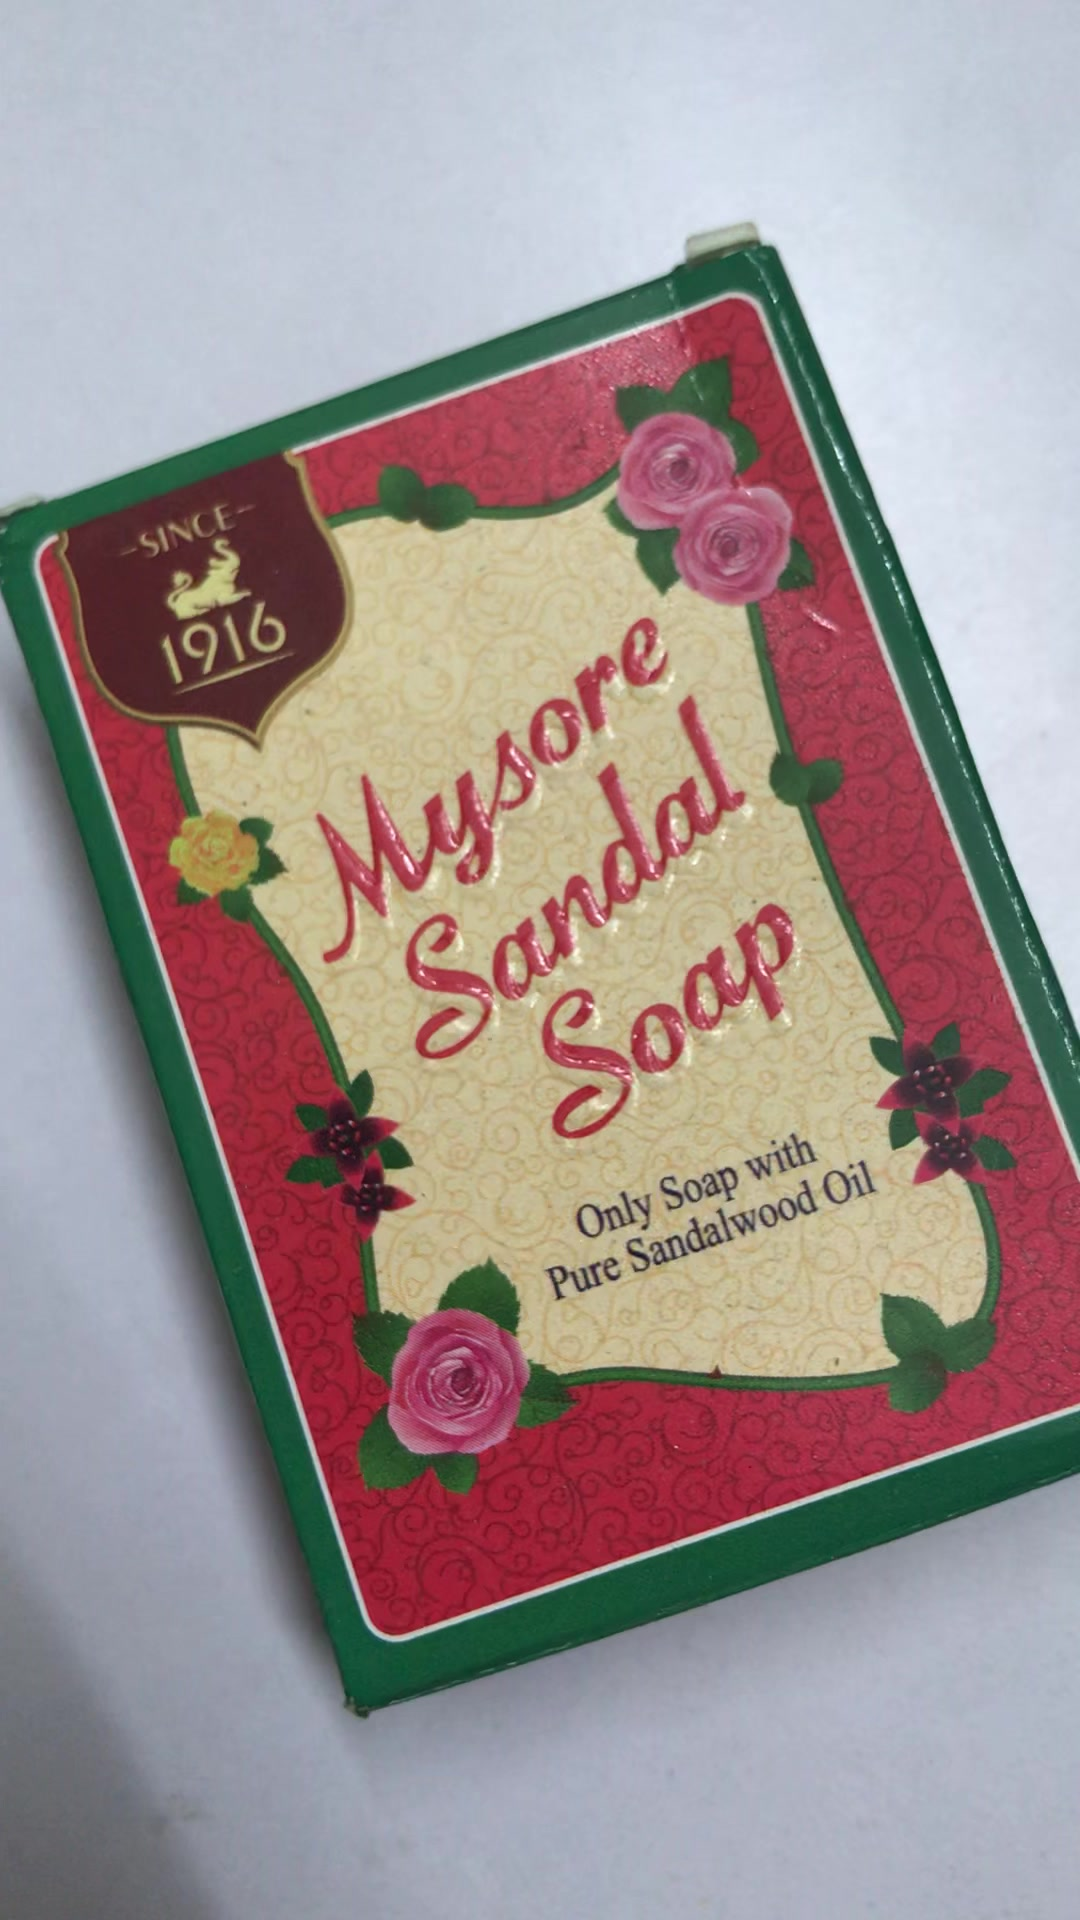mysore sandal soap: (1, 258, 1072, 1745)
